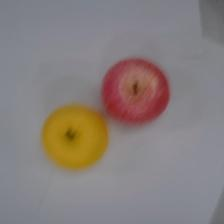red: (101, 56, 171, 125)
yellow: (41, 104, 109, 171)
